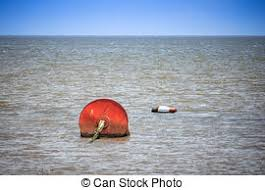buoy: (79, 100, 130, 139)
